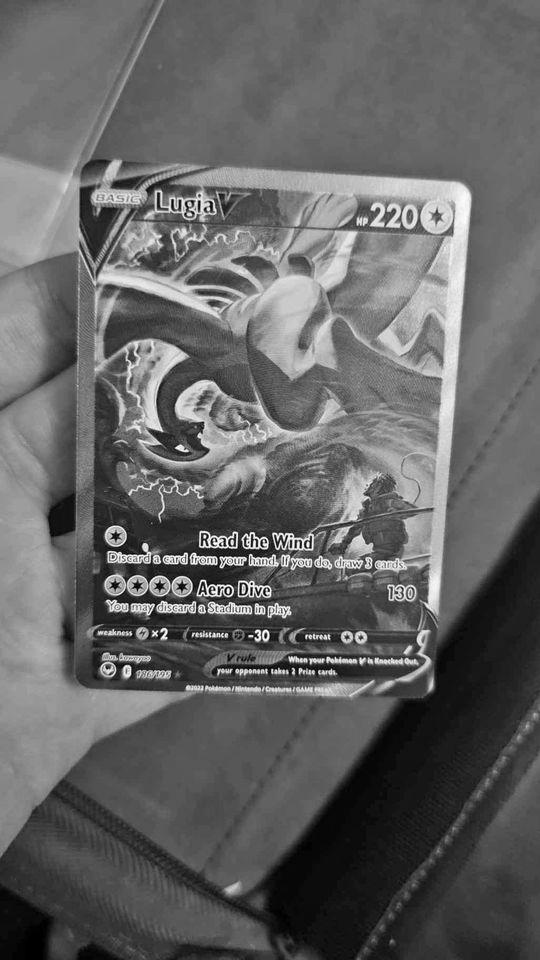card: (72, 158, 474, 700)
